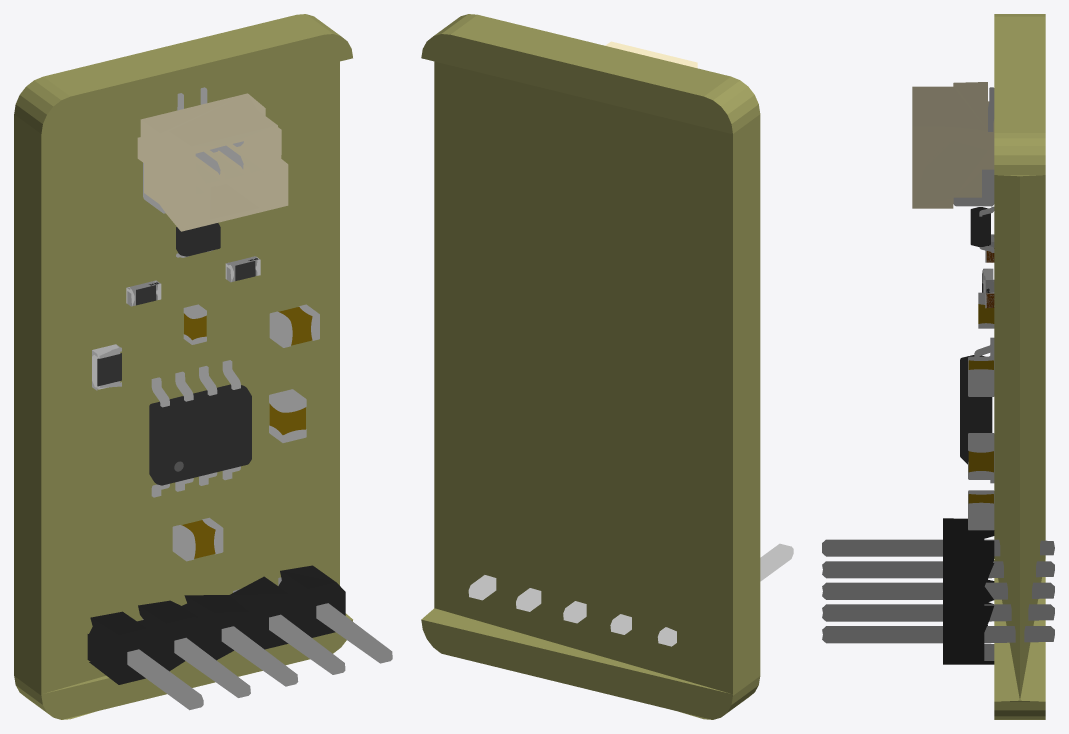
Rendered from OBJ_PCB_caps_4.obj.
3 renders of one model, left to right at view 1: azimuth 30°, elevation 25°; view 2: azimuth 150°, elevation 25°; view 3: azimuth 270°, elevation 25°, orthographic. The views are drawn at different scales.
Bounding box in the file's own units: 66.01 × 126 × 45.43.
